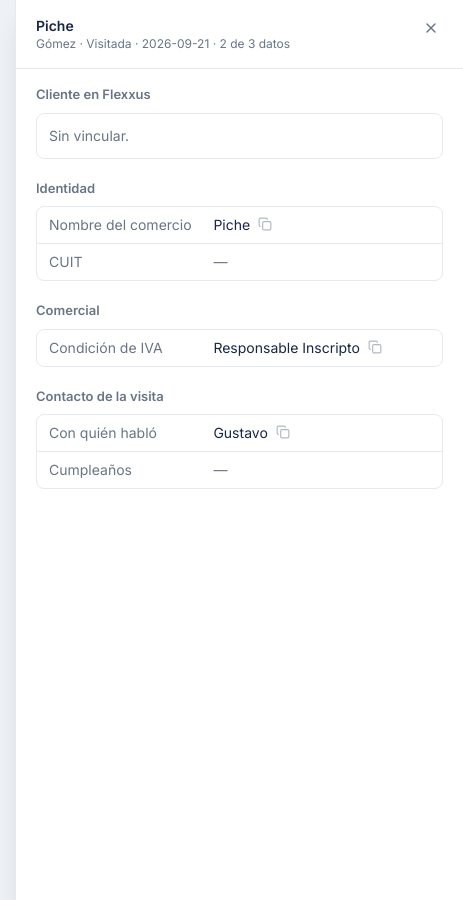
Test: tocar un dato lo copia al portapapeles y lo confirma en pantalla
Click the button with aria-label "copiar nombre del comercio".
click(322, 225)  # box 213,215 -> 430,235
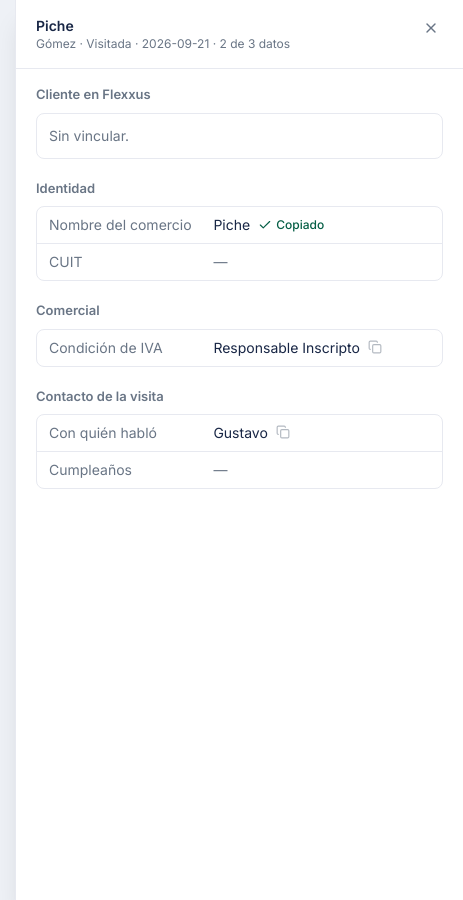
Expected: the text "Copiado" is shown, 258,217 -> 324,233
